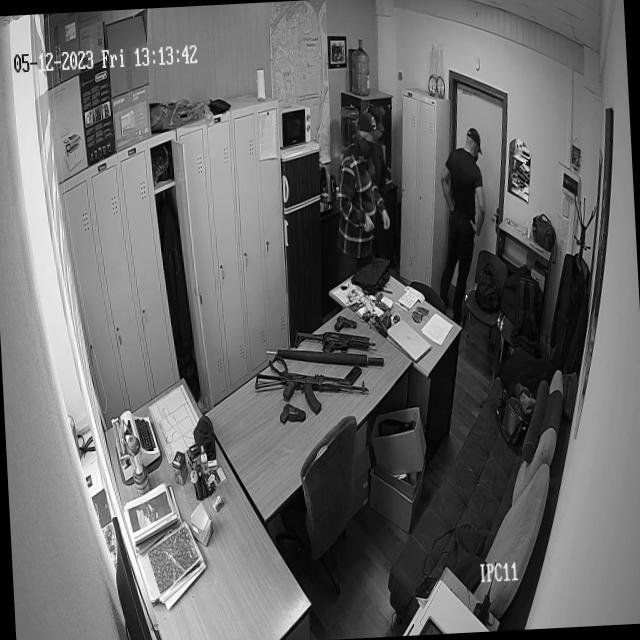gun: (252, 363, 370, 418), (293, 322, 378, 356), (279, 402, 307, 428), (332, 313, 358, 333)
person: (436, 123, 497, 310), (332, 112, 399, 268)
